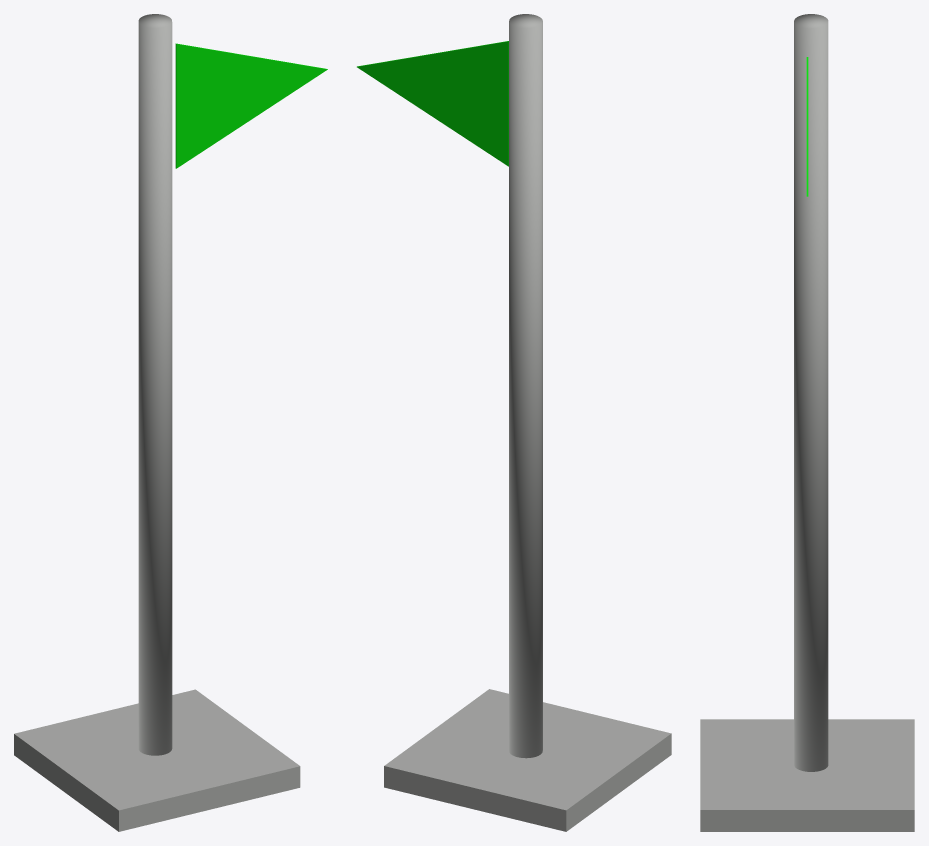
The model's file is bandera.fbx.
The picture shows the model from 3 angles, left to right: view 1: azimuth 30°, elevation 25°; view 2: azimuth 150°, elevation 25°; view 3: azimuth 270°, elevation 25°; orthographic projection. The views are drawn at different scales.
Parts seen in each view (by area): view 1: Cylinder, bandera, Cube.001; view 2: Cylinder, bandera, Cube.001; view 3: Cylinder, bandera, Cube.001.
Part boxes in pixels (left/top/right/bottom): Cylinder: left=138, top=14, right=172, bottom=755; bandera: left=14, top=689, right=300, bottom=831; Cube.001: left=175, top=43, right=327, bottom=168; Cylinder: left=509, top=14, right=542, bottom=758; bandera: left=384, top=689, right=671, bottom=831; Cube.001: left=357, top=41, right=508, bottom=166; Cylinder: left=794, top=14, right=828, bottom=771; bandera: left=700, top=719, right=914, bottom=831; Cube.001: left=806, top=57, right=808, bottom=196.
Bounding box in the file's own units: 152 × 417 × 106.
